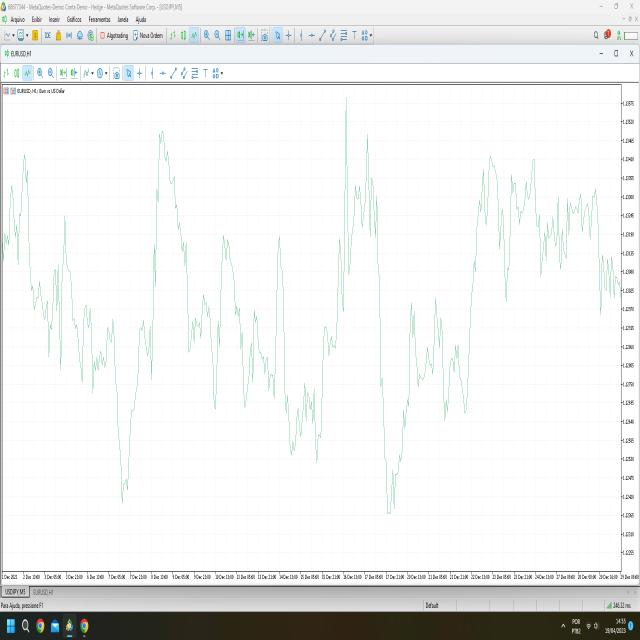bandeira_baixa: (184, 249, 208, 357), (85, 288, 106, 398)
fundo_duplo: (434, 285, 484, 433)
